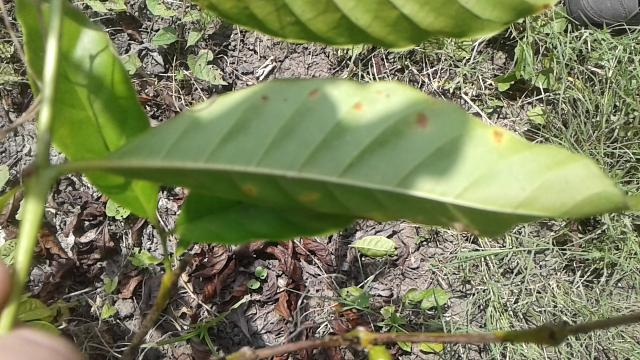rust_level_2: (90, 78, 638, 237)
